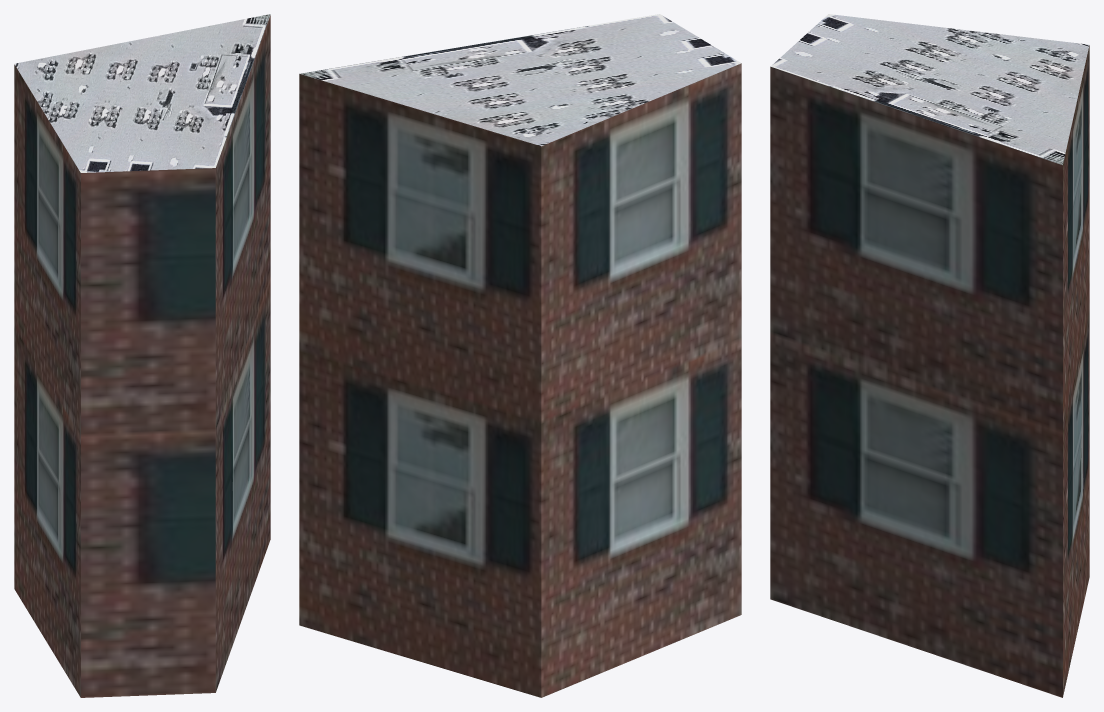
Rendered from ResTex__3986.fbx.
3 renders of one model, left to right at view 1: azimuth 30°, elevation 25°; view 2: azimuth 150°, elevation 25°; view 3: azimuth 270°, elevation 25°, orthographic. The views are drawn at different scales.
Visible parts, largest first — view 1: CityEngineMaterial_14_m, CityEngineMaterial_m; view 2: CityEngineMaterial_14_m, CityEngineMaterial_m; view 3: CityEngineMaterial_14_m, CityEngineMaterial_m.
Boxes of the visible parts, left/top/right/bottom form: CityEngineMaterial_14_m: left=14, top=15, right=270, bottom=697; CityEngineMaterial_m: left=14, top=14, right=270, bottom=172; CityEngineMaterial_14_m: left=299, top=63, right=741, bottom=697; CityEngineMaterial_m: left=300, top=14, right=741, bottom=146; CityEngineMaterial_14_m: left=770, top=45, right=1089, bottom=697; CityEngineMaterial_m: left=771, top=14, right=1089, bottom=164.
Size of the model in its own units: 3.65 by 6 by 3.26.
2 materials, 2 textured.
